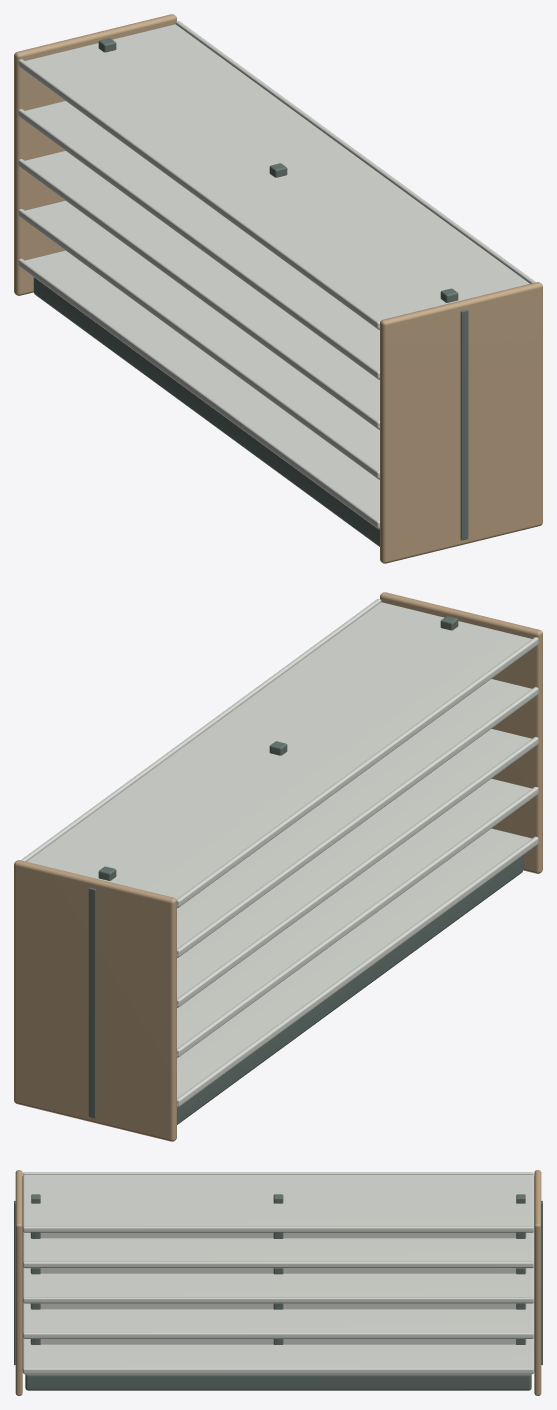
File: empty-gondola.glb
3 renders of one model, top to bottom at view 1: azimuth 30°, elevation 25°; view 2: azimuth 150°, elevation 25°; view 3: azimuth 270°, elevation 25°, orthographic. The views are drawn at different scales.
Visible parts, largest first — view 1: Porcelain powder coat, Warm oak end panels, Satin graphite steel; view 2: Porcelain powder coat, Warm oak end panels, Satin graphite steel; view 3: Porcelain powder coat, Satin graphite steel, Warm oak end panels.
Part boxes in pixels (x1,y1,x2,y2): Porcelain powder coat: [18, 21, 535, 529]; Warm oak end panels: [14, 14, 542, 563]; Satin graphite steel: [33, 38, 468, 546]; Porcelain powder coat: [21, 599, 538, 1107]; Warm oak end panels: [14, 592, 542, 1141]; Satin graphite steel: [88, 616, 523, 1124]; Porcelain powder coat: [22, 1172, 534, 1374]; Satin graphite steel: [14, 1194, 542, 1390]; Warm oak end panels: [15, 1170, 541, 1395].
Bounding box in the file's own units: 1.25 × 1.81 × 5.02.
